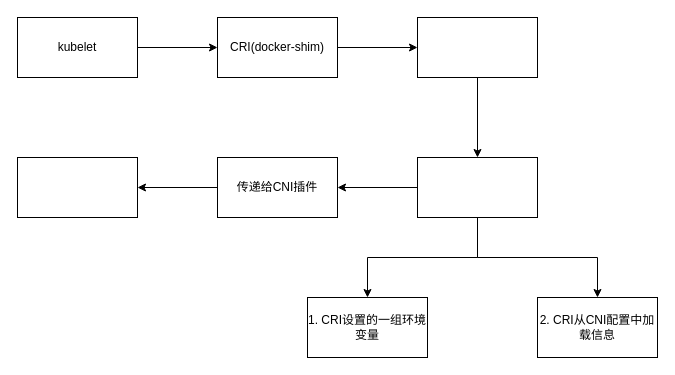
This 675x375 diagram has some shape labels left out. Each missing label, with the box of its shape:
CRI加载/etc/cni/net.d下的插件: (416, 16, 538, 78)
准备CNI插件参数: (416, 156, 538, 218)
执行将容器加入网络操作: (16, 156, 138, 218)
